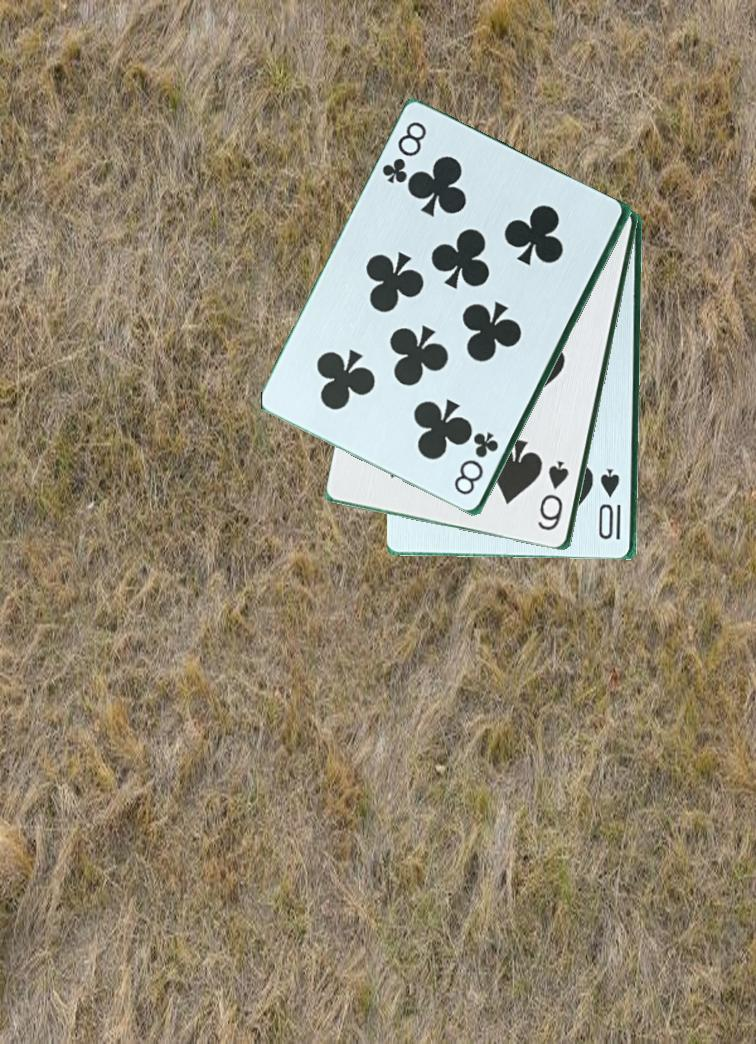6s: (535, 456, 573, 535)
8c: (378, 118, 430, 191), (451, 429, 502, 499)
ts: (599, 465, 625, 543)
